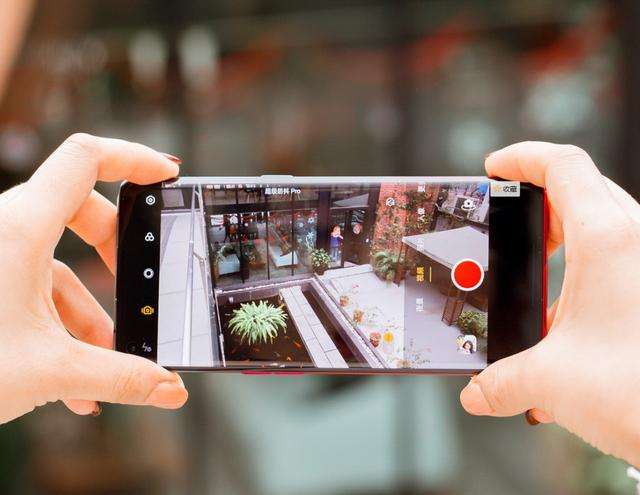taking photos: (1, 128, 636, 469)
